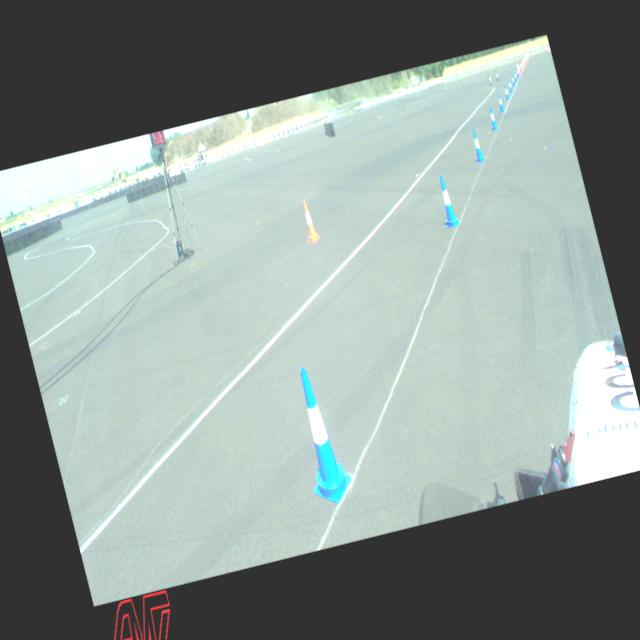blue_cone: (284, 362, 356, 508), (433, 174, 460, 228), (468, 128, 486, 162), (487, 106, 498, 130), (496, 94, 504, 112), (502, 83, 510, 100), (506, 77, 513, 91), (510, 74, 516, 86), (514, 68, 520, 78), (513, 71, 518, 82)
large_orange_cone: (515, 61, 521, 76)
orange_cone: (298, 198, 320, 244)
